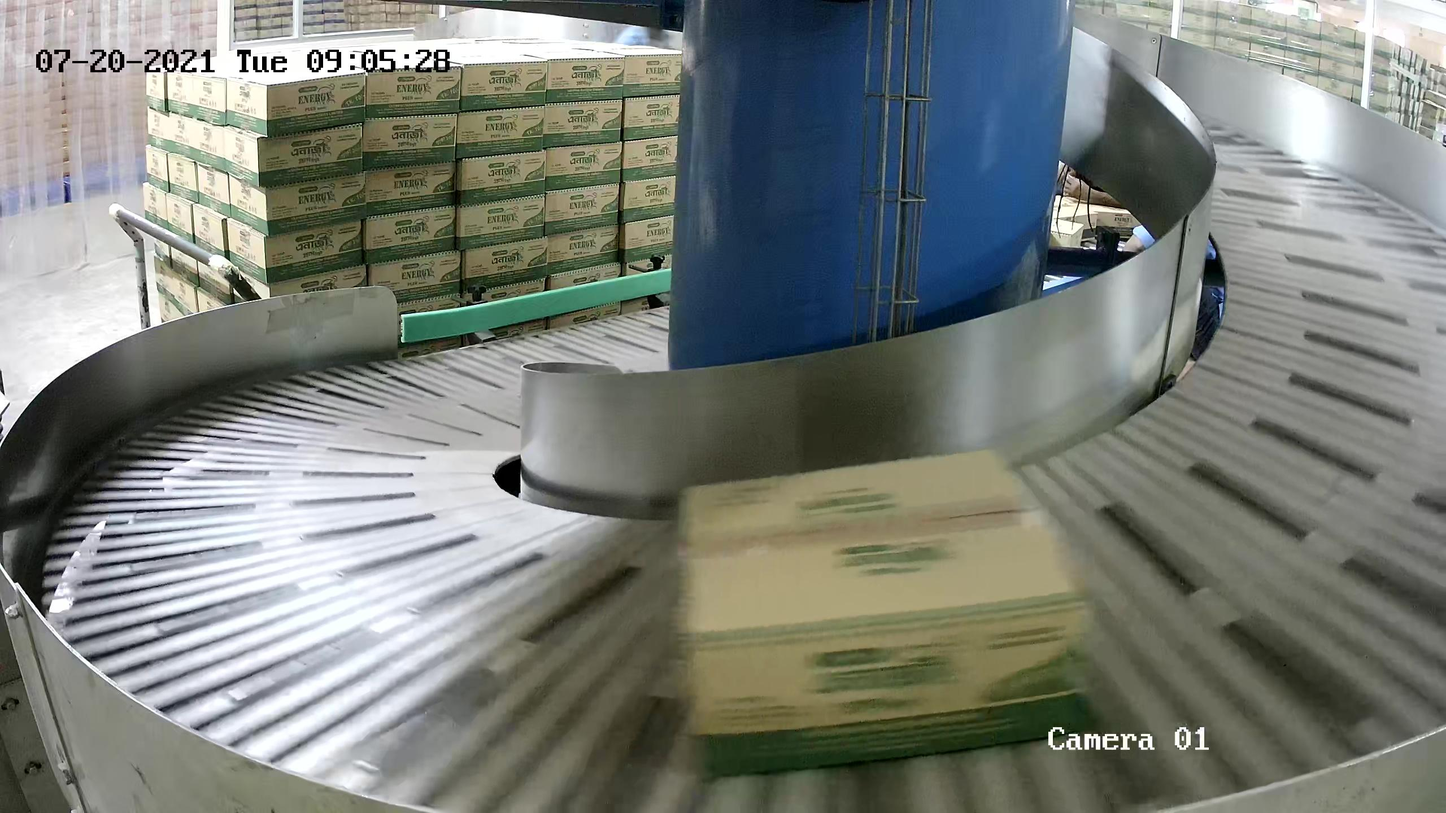Box: (674, 447, 1088, 777)
